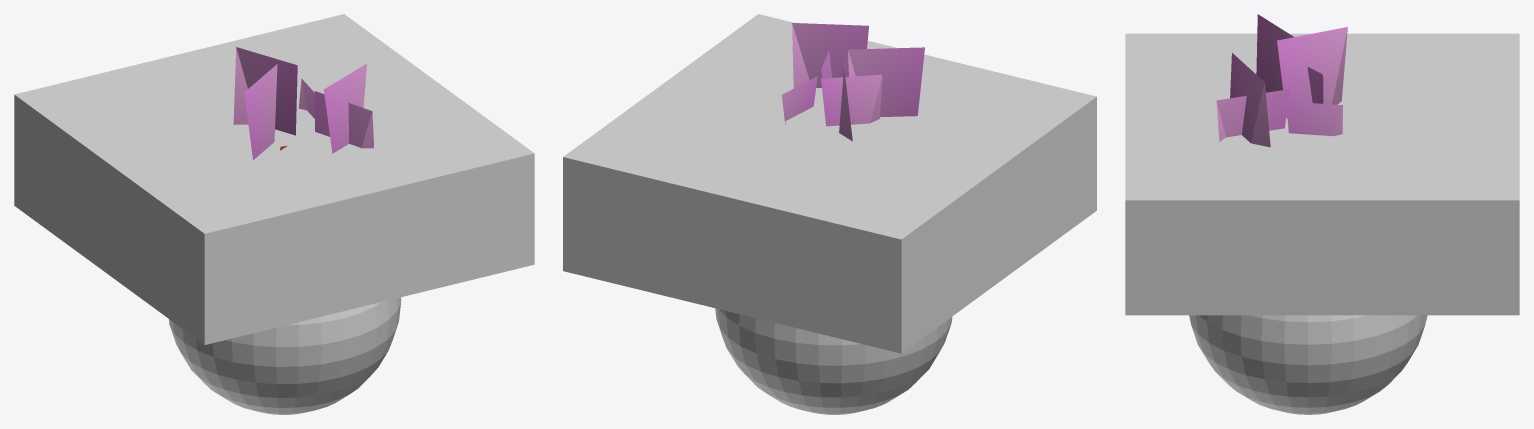
The model's file is grass_field_large.dae.
The picture shows the model from 3 angles, left to right: view 1: azimuth 30°, elevation 25°; view 2: azimuth 150°, elevation 25°; view 3: azimuth 270°, elevation 25°; orthographic projection. The views are drawn at different scales.
Parts seen in each view (by area): view 1: Untitled, Sphere, grass_field_large150; view 2: Untitled, Sphere, grass_field_large150, grass_field_large300; view 3: Untitled, Sphere, grass_field_large150, grass_field_large300.
Part boxes in pixels (<box>): Untitled: <box>14,14,534,344</box>; Sphere: <box>169,297,401,414</box>; grass_field_large150: <box>233,47,373,159</box>; Untitled: <box>563,14,1096,353</box>; Sphere: <box>715,308,952,414</box>; grass_field_large150: <box>792,23,924,141</box>; grass_field_large300: <box>782,76,817,124</box>; Untitled: <box>1125,33,1519,315</box>; Sphere: <box>1189,315,1427,414</box>; grass_field_large150: <box>1216,14,1347,147</box>; grass_field_large300: <box>1286,101,1342,136</box>.
Size of the model in its own units: 3.59 by 3.59 by 3.64.
